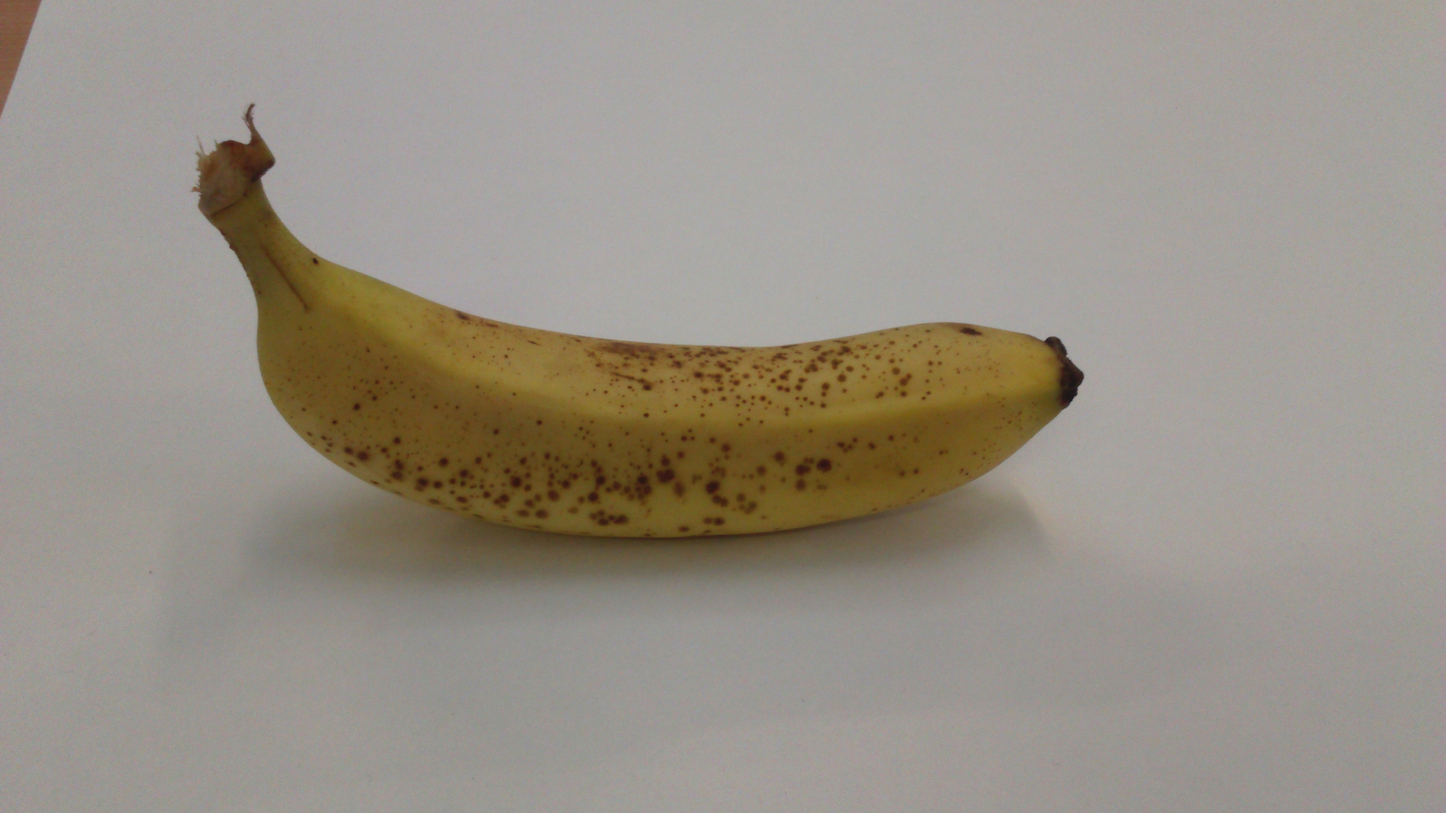banana: (153, 115, 1131, 582)
